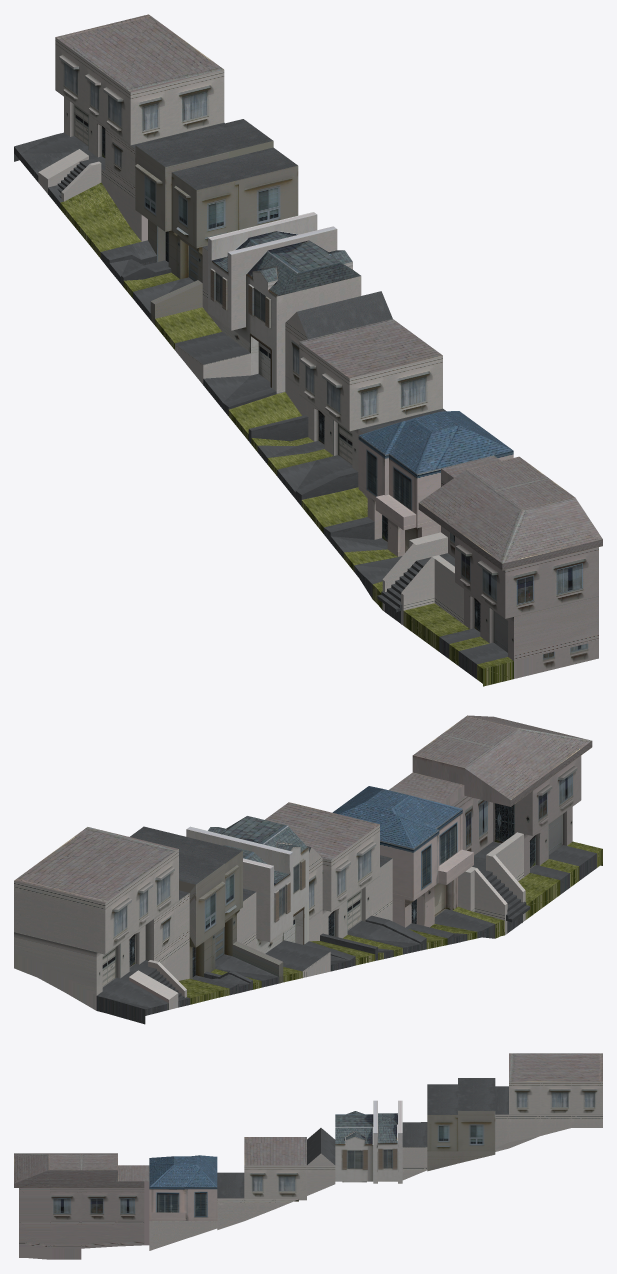
File: bigboxtmp02.obj
3 renders of one model, top to bottom at view 1: azimuth 30°, elevation 25°; view 2: azimuth 150°, elevation 25°; view 3: azimuth 270°, elevation 25°, orthographic. The views are drawn at different scales.
Parts seen in each view (by area): view 1: bigboxtmp02; view 2: bigboxtmp02; view 3: bigboxtmp02.
Boxes of the visible parts, box(x1,y1,x2,y2) form: bigboxtmp02: box(14, 14, 602, 686); bigboxtmp02: box(14, 715, 602, 1024); bigboxtmp02: box(14, 1053, 602, 1259).
Size of the model in its own units: 11.49 by 21.74 by 63.07.
14 materials, 14 textured.
